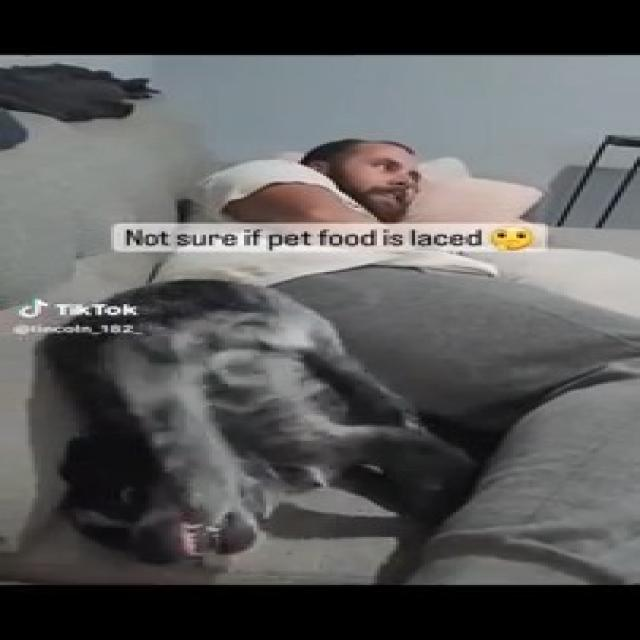dogs: (31, 271, 468, 566)
